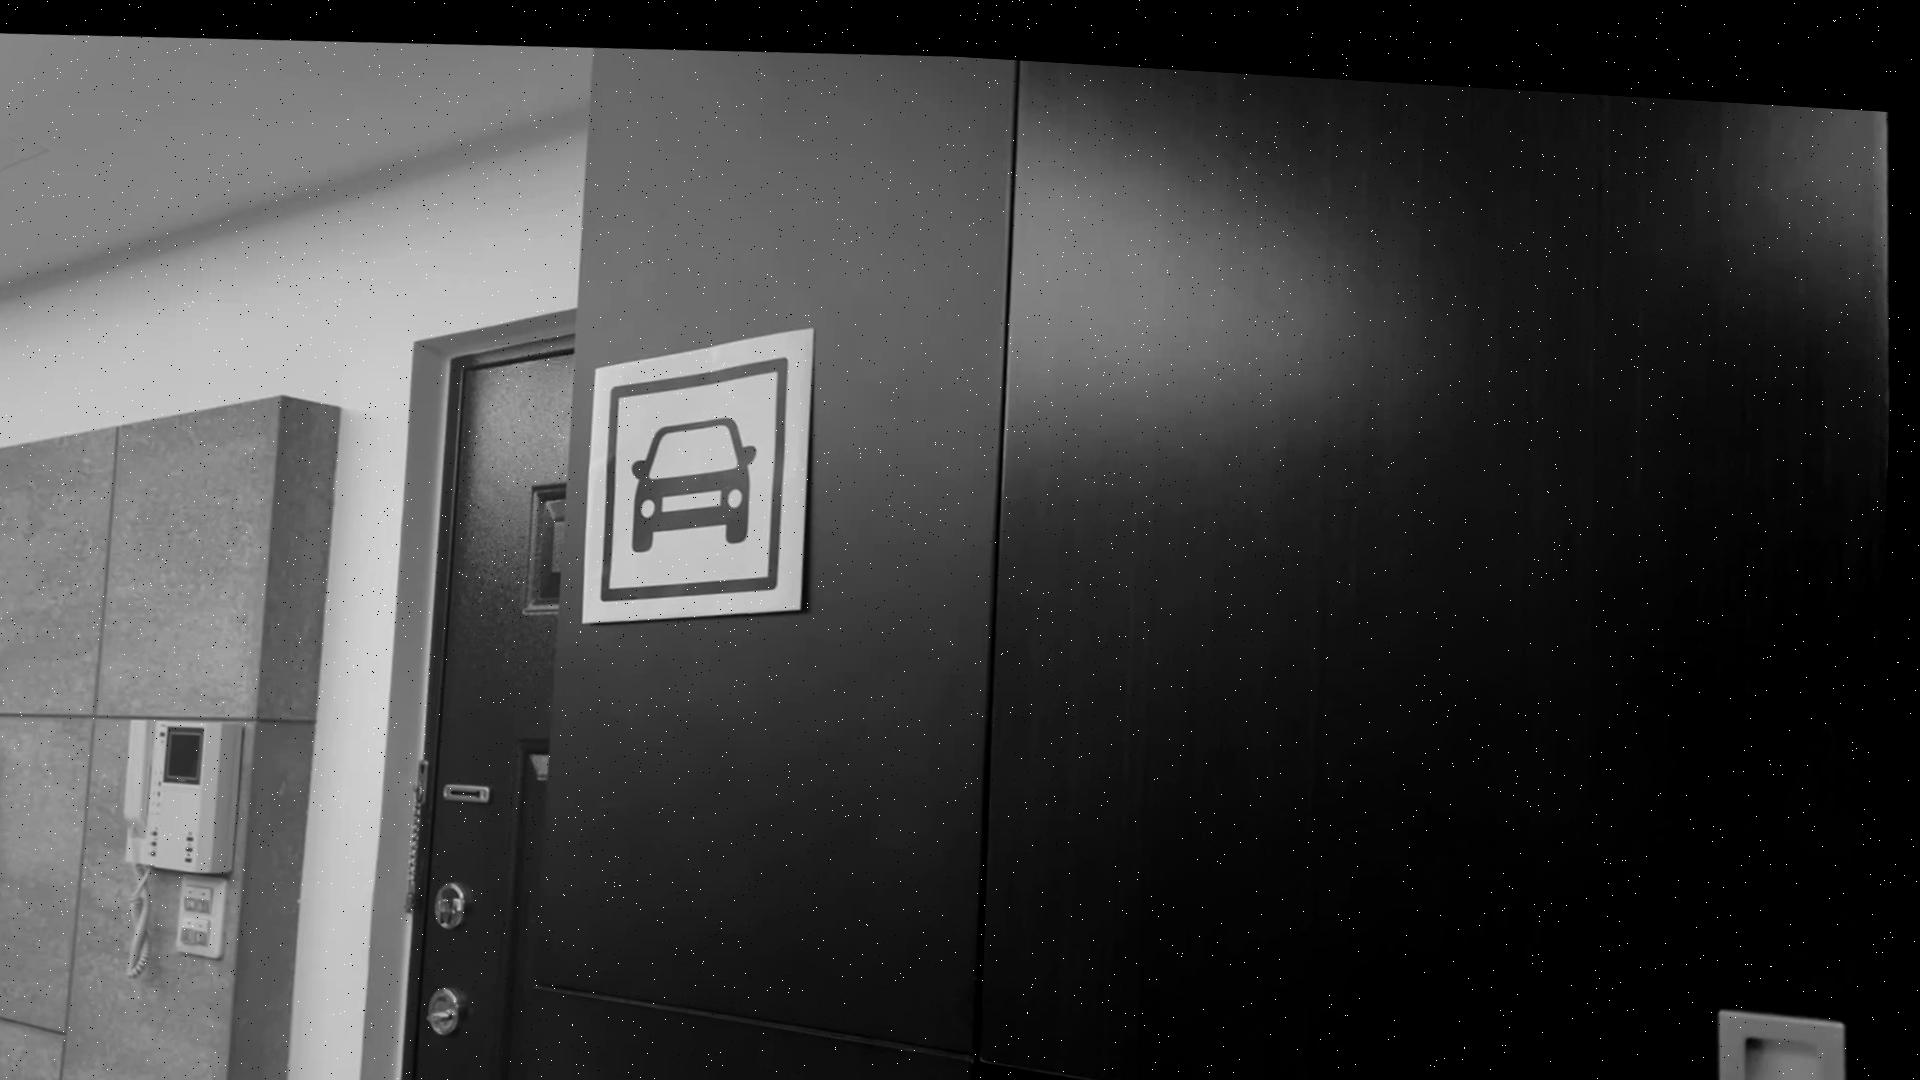car_img: (601, 340, 799, 603)
